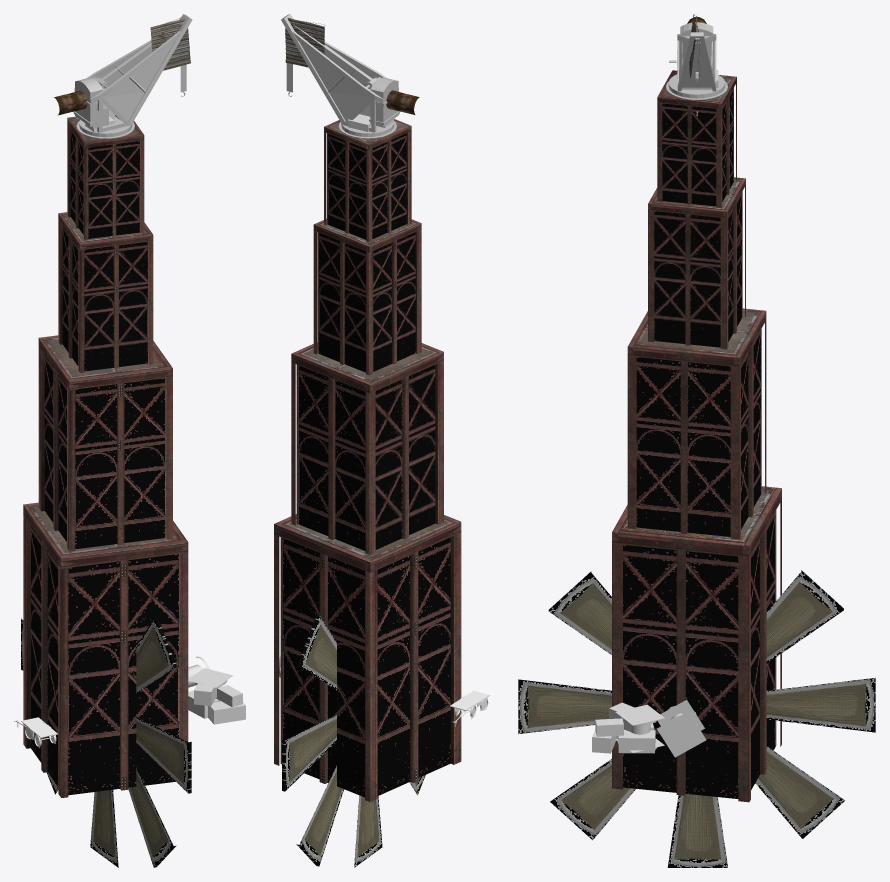
File: windmill.gltf
3 renders of one model, left to right at view 1: azimuth 30°, elevation 25°; view 2: azimuth 150°, elevation 25°; view 3: azimuth 270°, elevation 25°, orthographic. The views are drawn at different scales.
Parts seen in each view (by area): view 1: _main_lod0, _fan_lod0, _crane_lod0, wooden_pile, prop_flatbedwagon1, spool; view 2: _main_lod0, _fan_lod0, _crane_lod0, prop_flatbedwagon1; view 3: _main_lod0, _fan_lod0, _crane_lod0, wooden_pile, spool_1, spool.
Part boxes in pixels (left/top/right/bottom): _main_lod0: left=23, top=116, right=188, bottom=797; _fan_lod0: left=21, top=616, right=191, bottom=867; _crane_lod0: left=54, top=14, right=192, bottom=138; wooden_pile: left=188, top=683, right=245, bottom=724; prop_flatbedwagon1: left=14, top=717, right=57, bottom=748; spool: left=188, top=668, right=233, bottom=687; _main_lod0: left=274, top=119, right=461, bottom=802; _fan_lod0: left=282, top=614, right=425, bottom=867; _crane_lod0: left=281, top=14, right=419, bottom=138; prop_flatbedwagon1: left=450, top=690, right=489, bottom=726; _main_lod0: left=612, top=70, right=781, bottom=802; _fan_lod0: left=518, top=570, right=875, bottom=867; _crane_lod0: left=666, top=14, right=727, bottom=116; wooden_pile: left=592, top=702, right=655, bottom=753; spool_1: left=657, top=699, right=706, bottom=757; spool: left=615, top=704, right=664, bottom=752.
Size of what is drawn, in the model's own units: 1.5 by 6.16 by 2.27.
